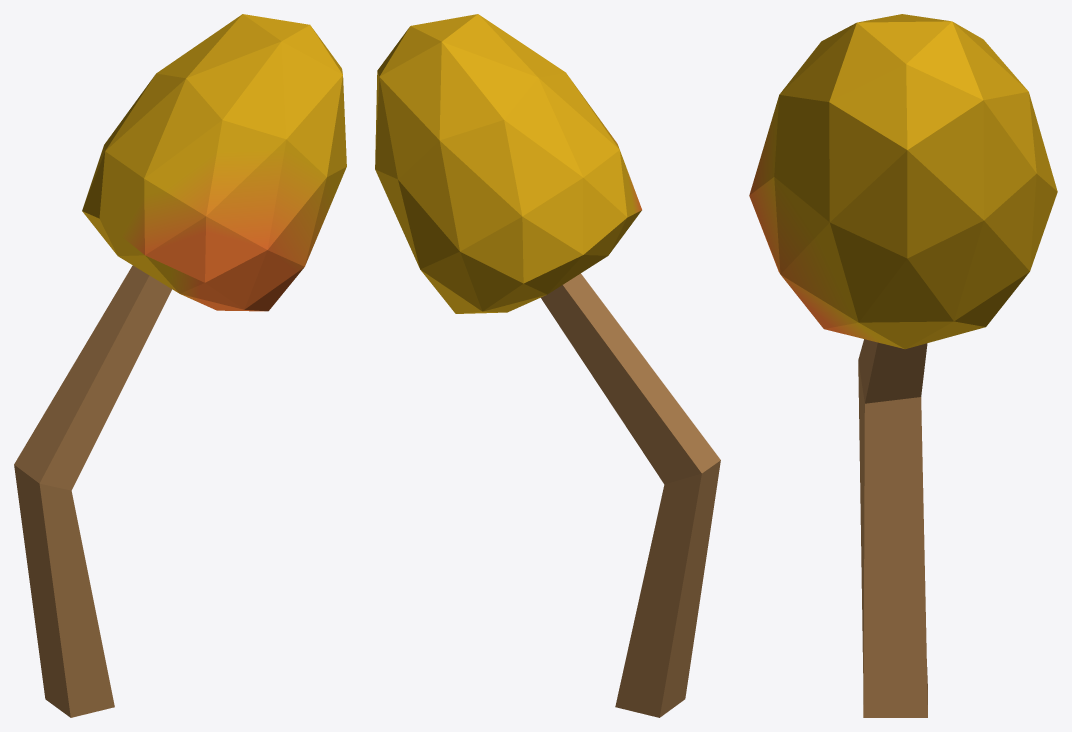
File: Mushroom_8.fbx
3 views of the same model, side by side, from view 1: azimuth 30°, elevation 25°; view 2: azimuth 150°, elevation 25°; view 3: azimuth 270°, elevation 25° (orthographic). The views are drawn at different scales.
Visible parts, largest first — view 1: Mushroom_8; view 2: Mushroom_8; view 3: Mushroom_8.
Part boxes in pixels (bbox=[...]): Mushroom_8: bbox=[14, 14, 346, 717]; Mushroom_8: bbox=[375, 14, 720, 717]; Mushroom_8: bbox=[749, 14, 1057, 717].
Bounding box in the file's own units: 42.13 × 77.73 × 27.26.
